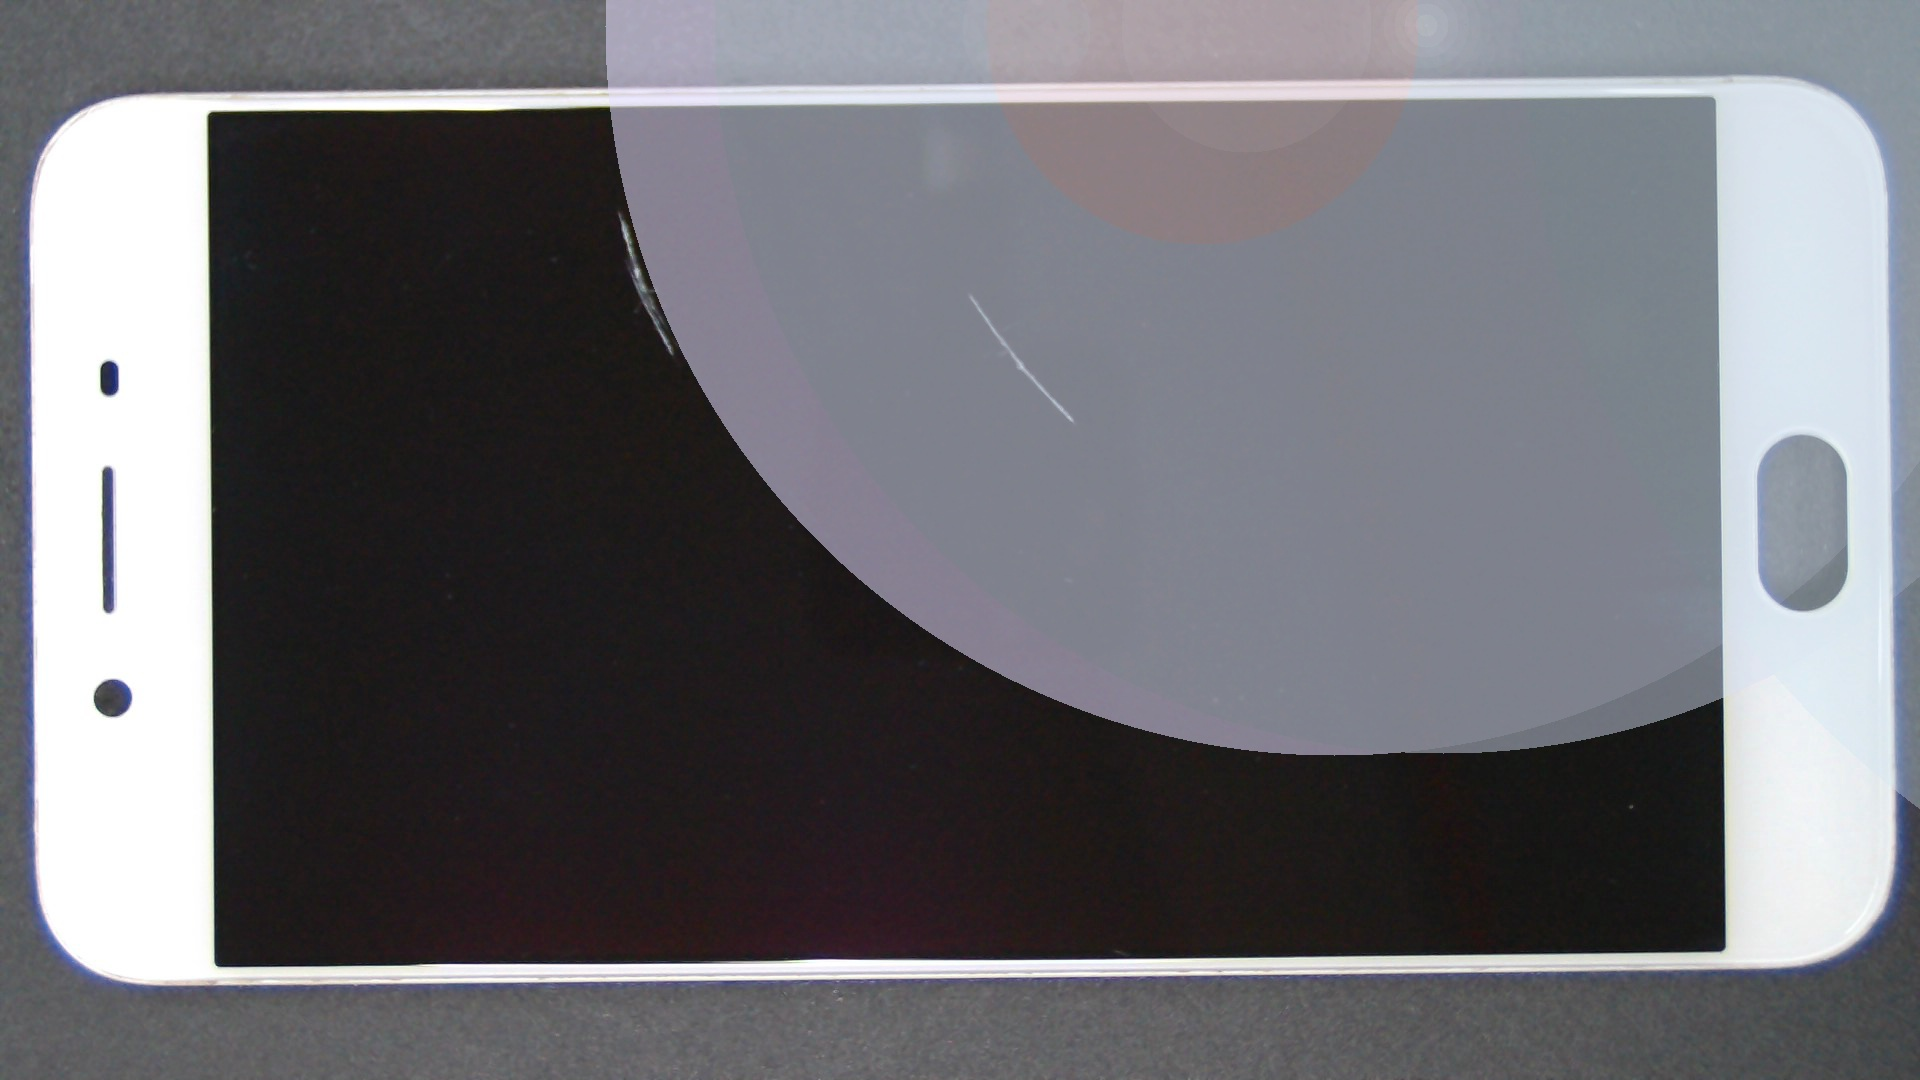oil: (485, 146, 1455, 440), (309, 102, 927, 323)
